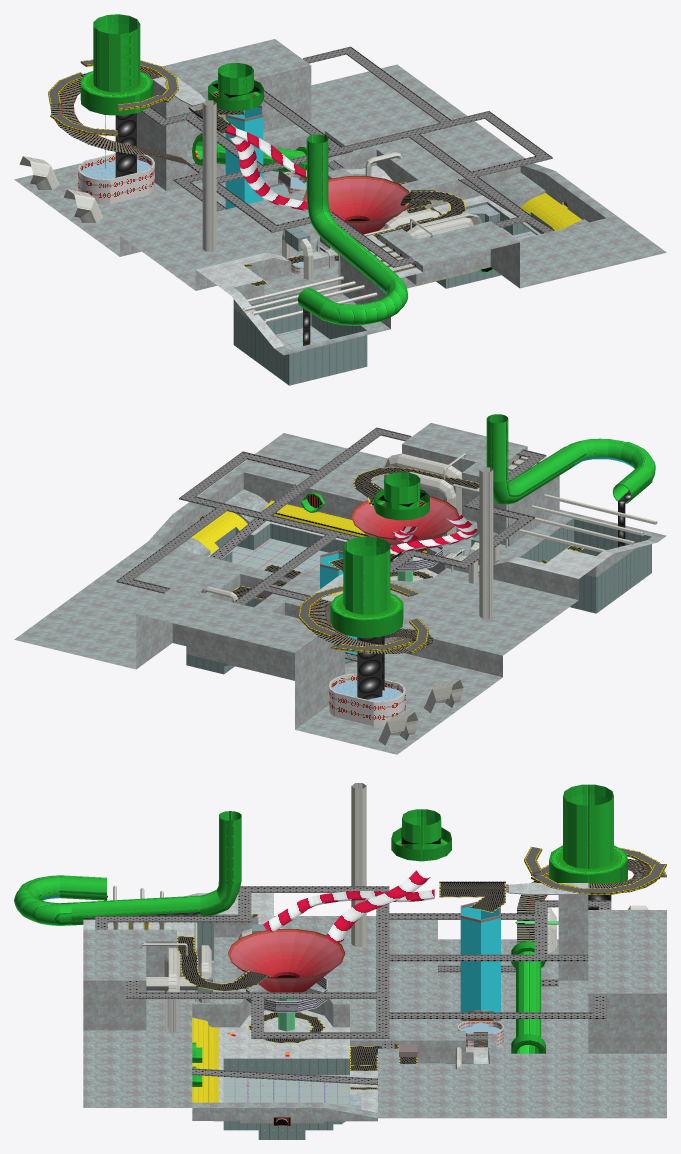
3 views of the same model, one above another, from view 1: azimuth 30°, elevation 25°; view 2: azimuth 150°, elevation 25°; view 3: azimuth 270°, elevation 25° (orthographic). The views are drawn at different scales.
Parts seen in each view (by area): view 1: Wacky_Waterworks-SKP-ConcreteOOB, Wacky_Waterworks-SKP-Wall, Wacky_Waterworks-SKP-MetalBridge, Wacky_Waterworks-SKP-GreenPipe, Wacky_Waterworks-SKP-WhitePipe, Wacky_Waterworks-SKP-PoolSide, Wacky_Waterworks-SKP-Concrete, Wacky_Waterworks-SKP-Cone, Wacky_Waterworks-SKP-PipeFront, Wacky_Waterworks-SKP-ShadedPipe, Wacky_Waterworks-SKP-TankSide, Wacky_Waterworks-SKP-Chute (+8 smaller); view 2: Wacky_Waterworks-SKP-ConcreteOOB, Wacky_Waterworks-SKP-Wall, Wacky_Waterworks-SKP-MetalBridge, Wacky_Waterworks-SKP-GreenPipe, Wacky_Waterworks-SKP-WhitePipe, Wacky_Waterworks-SKP-PoolSide, Wacky_Waterworks-SKP-PipeFront, Wacky_Waterworks-SKP-Concrete, Wacky_Waterworks-SKP-Cone, Wacky_Waterworks-SKP-QuarterPipe, Wacky_Waterworks-SKP-TankSide, Wacky_Waterworks-SKP-Conveyor (+9 smaller); view 3: Wacky_Waterworks-SKP-ConcreteOOB, Wacky_Waterworks-SKP-Wall, Wacky_Waterworks-SKP-MetalBridge, Wacky_Waterworks-SKP-GreenPipe, Wacky_Waterworks-SKP-Concrete, Wacky_Waterworks-SKP-WhitePipe, Wacky_Waterworks-SKP-Cone, Wacky_Waterworks-SKP-PoolSide, Wacky_Waterworks-SKP-MetalGrid, Wacky_Waterworks-SKP-PipeGlass, Wacky_Waterworks-SKP-PipeFront, Wacky_Waterworks-SKP-Chute (+7 smaller).
Boxes of the visible parts, x1,y1,x2,y2 form: Wacky_Waterworks-SKP-ConcreteOOB: (14, 39, 666, 355); Wacky_Waterworks-SKP-Wall: (120, 65, 605, 328); Wacky_Waterworks-SKP-MetalBridge: (141, 46, 554, 267); Wacky_Waterworks-SKP-GreenPipe: (93, 14, 493, 325); Wacky_Waterworks-SKP-WhitePipe: (19, 100, 540, 322); Wacky_Waterworks-SKP-PoolSide: (233, 156, 552, 385); Wacky_Waterworks-SKP-Concrete: (153, 74, 516, 348); Wacky_Waterworks-SKP-Cone: (303, 177, 409, 234); Wacky_Waterworks-SKP-PipeFront: (80, 71, 306, 170); Wacky_Waterworks-SKP-ShadedPipe: (97, 23, 481, 324); Wacky_Waterworks-SKP-TankSide: (78, 154, 306, 274); Wacky_Waterworks-SKP-Chute: (224, 125, 307, 211); Wacky_Waterworks-SKP-ConcreteOOB: (14, 423, 666, 754); Wacky_Waterworks-SKP-Wall: (136, 444, 635, 729); Wacky_Waterworks-SKP-MetalBridge: (116, 427, 546, 661); Wacky_Waterworks-SKP-GreenPipe: (308, 414, 652, 614); Wacky_Waterworks-SKP-WhitePipe: (201, 453, 657, 745); Wacky_Waterworks-SKP-PoolSide: (186, 519, 651, 674); Wacky_Waterworks-SKP-PipeFront: (300, 484, 631, 637); Wacky_Waterworks-SKP-Concrete: (207, 456, 656, 601); Wacky_Waterworks-SKP-Cone: (351, 497, 458, 554); Wacky_Waterworks-SKP-QuarterPipe: (191, 500, 426, 595); Wacky_Waterworks-SKP-TankSide: (328, 570, 479, 726); Wacky_Waterworks-SKP-Conveyor: (298, 457, 539, 654); Wacky_Waterworks-SKP-ConcreteOOB: (83, 910, 666, 1118); Wacky_Waterworks-SKP-Wall: (83, 892, 666, 1123); Wacky_Waterworks-SKP-MetalBridge: (95, 886, 611, 1085); Wacky_Waterworks-SKP-GreenPipe: (18, 784, 613, 1086); Wacky_Waterworks-SKP-Concrete: (83, 883, 588, 1112); Wacky_Waterworks-SKP-WhitePipe: (113, 783, 648, 1069); Wacky_Waterworks-SKP-Cone: (228, 930, 344, 992); Wacky_Waterworks-SKP-PoolSide: (194, 922, 488, 1139); Wacky_Waterworks-SKP-MetalGrid: (178, 882, 504, 1089); Wacky_Waterworks-SKP-PipeGlass: (41, 895, 500, 1019); Wacky_Waterworks-SKP-PipeFront: (196, 827, 627, 1082); Wacky_Waterworks-SKP-Chute: (263, 870, 434, 942).
Bounding box in the file's own units: 94588 × 42583 × 127700.
36 materials, 36 textured.
